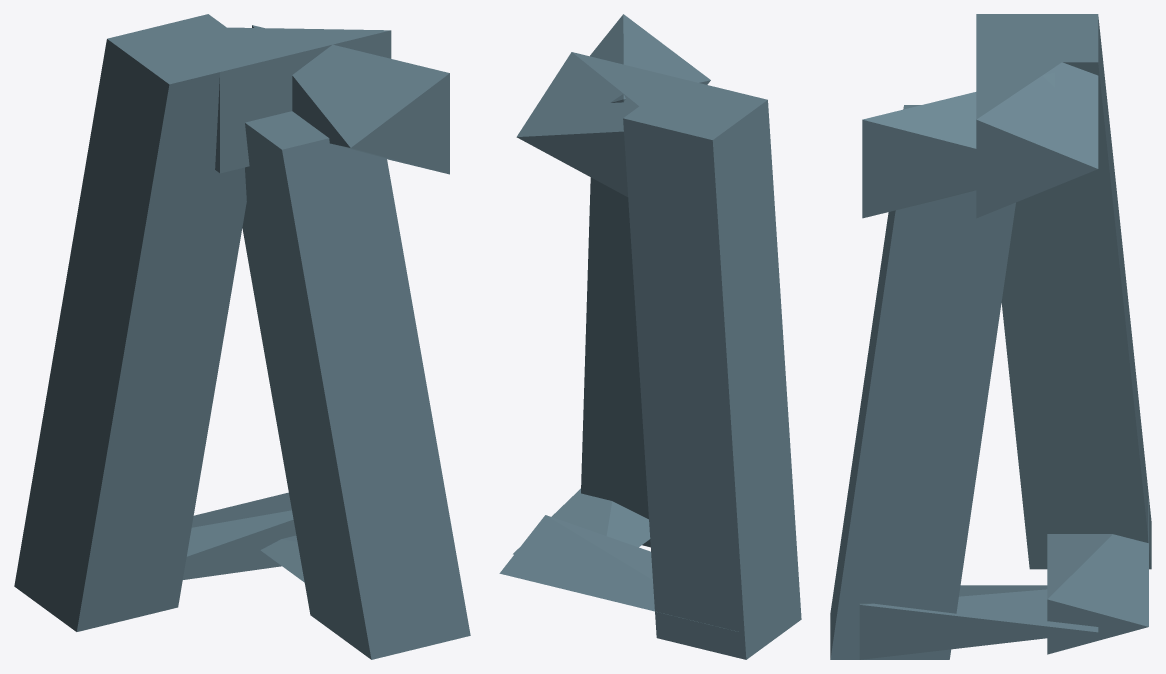
Rendered from cctv-far-af2dcc157e.glb.
3 renders of one model, left to right at view 1: azimuth 30°, elevation 25°; view 2: azimuth 150°, elevation 25°; view 3: azimuth 270°, elevation 25°, orthographic. The views are drawn at different scales.
Visible parts, largest first — view 1: cctv coarse.001; view 2: cctv coarse.001; view 3: cctv coarse.001.
Part boxes in pixels (<box>): cctv coarse.001: <box>14,14,470,659</box>; cctv coarse.001: <box>499,14,801,659</box>; cctv coarse.001: <box>830,14,1151,659</box>.
Bounding box in the file's own units: 130 × 234 × 127.
